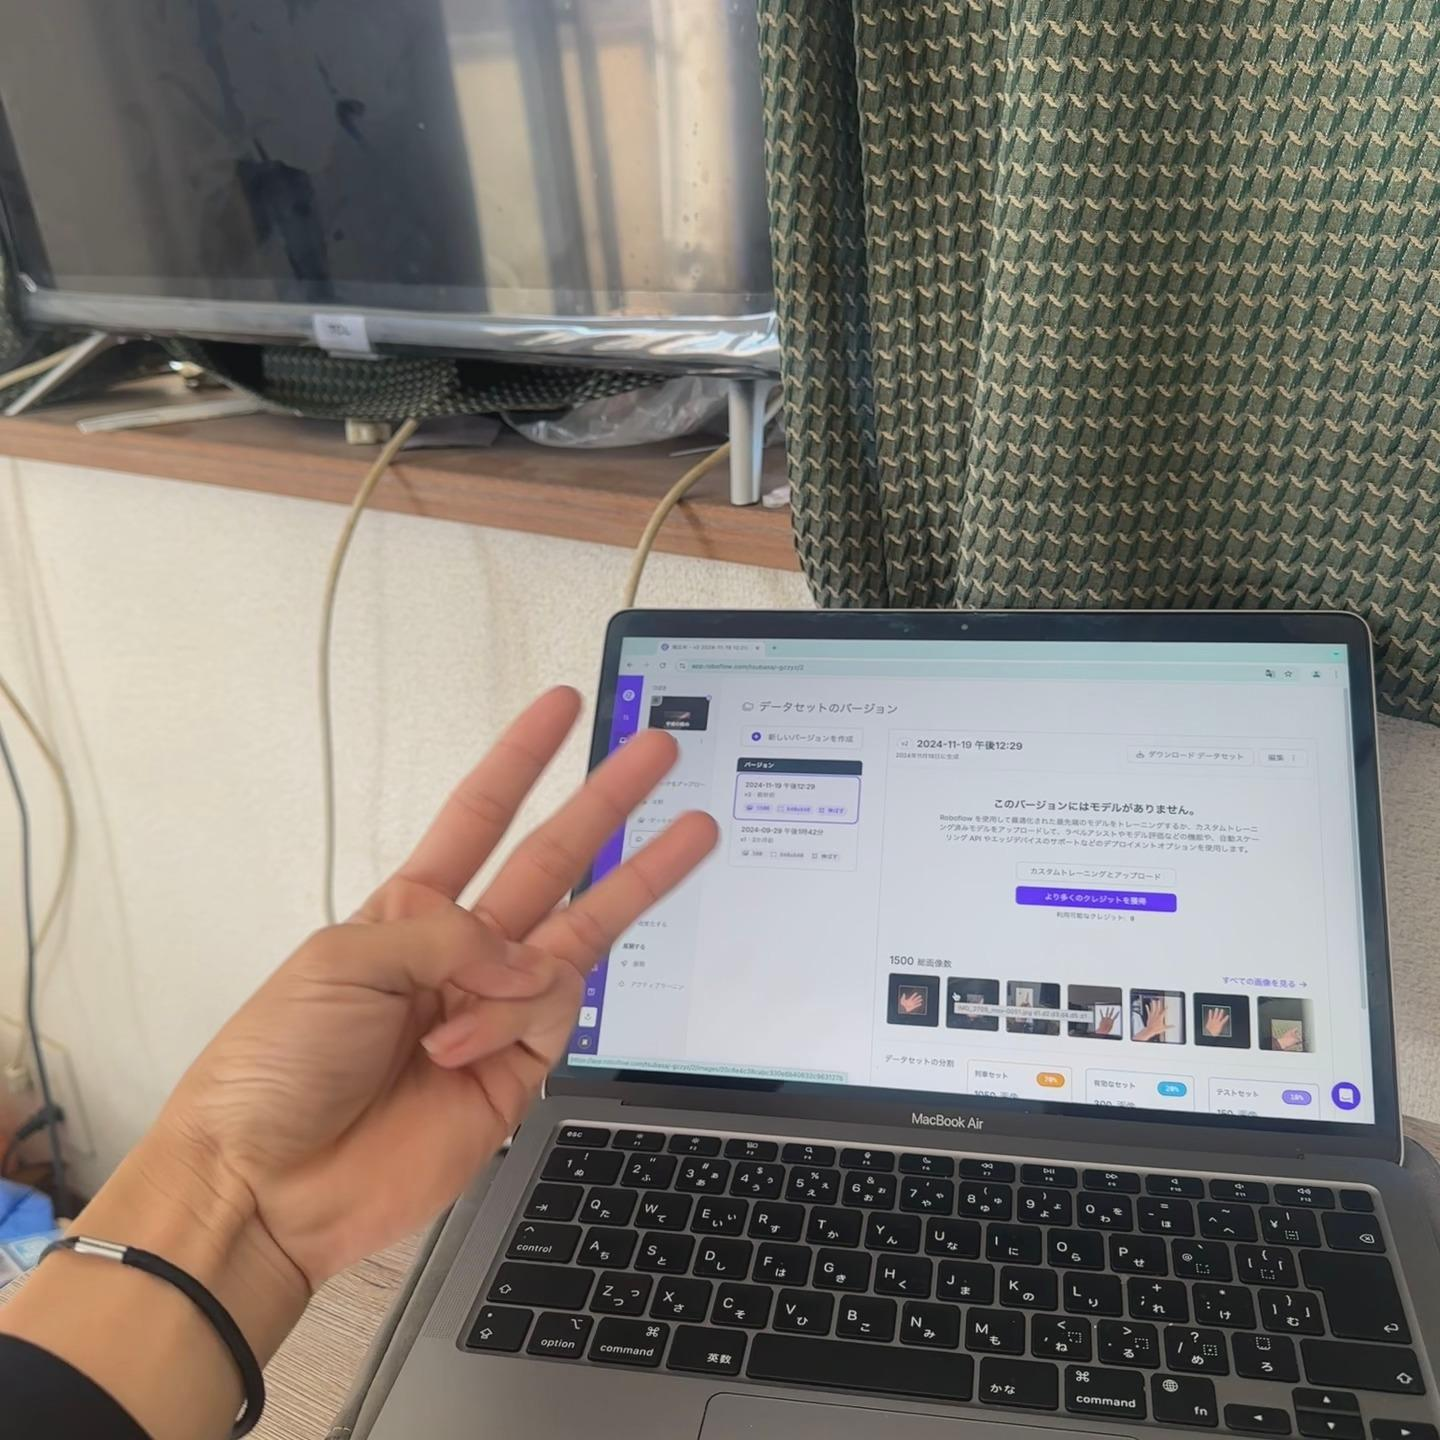without_gloves: (105, 538, 803, 1340)
